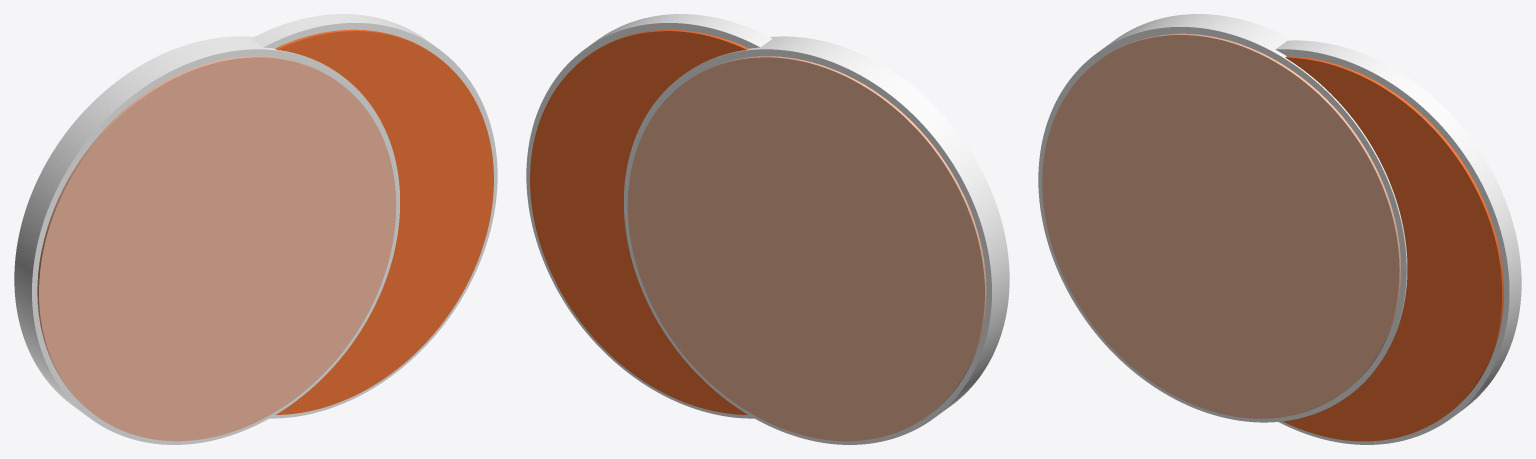
The model's file is GEO_Stock_2_LOD1.glb.
3 renders of one model, left to right at view 1: azimuth 30°, elevation 25°; view 2: azimuth 150°, elevation 25°; view 3: azimuth 330°, elevation 25°, orthographic.
Visible parts, largest first — view 1: Cylinder 1, Cylinder 3, Cylinder, Cylinder 2; view 2: Cylinder 1, Cylinder 3, Cylinder, Cylinder 2; view 3: Cylinder 1, Cylinder 3, Cylinder 2, Cylinder.
Boxes of the visible parts, <box> form: Cylinder 1: <box>37,56,396,441</box>; Cylinder 3: <box>275,29,493,414</box>; Cylinder: <box>14,36,399,444</box>; Cylinder 2: <box>251,14,497,418</box>; Cylinder 1: <box>627,56,986,441</box>; Cylinder 3: <box>530,29,748,414</box>; Cylinder: <box>624,36,1009,444</box>; Cylinder 2: <box>526,14,772,418</box>; Cylinder 1: <box>1042,33,1400,418</box>; Cylinder 3: <box>1283,56,1503,441</box>; Cylinder 2: <box>1275,40,1521,444</box>; Cylinder: <box>1038,14,1407,422</box>.
Bounding box in the file's own units: 1.27 × 1 × 0.0973.
